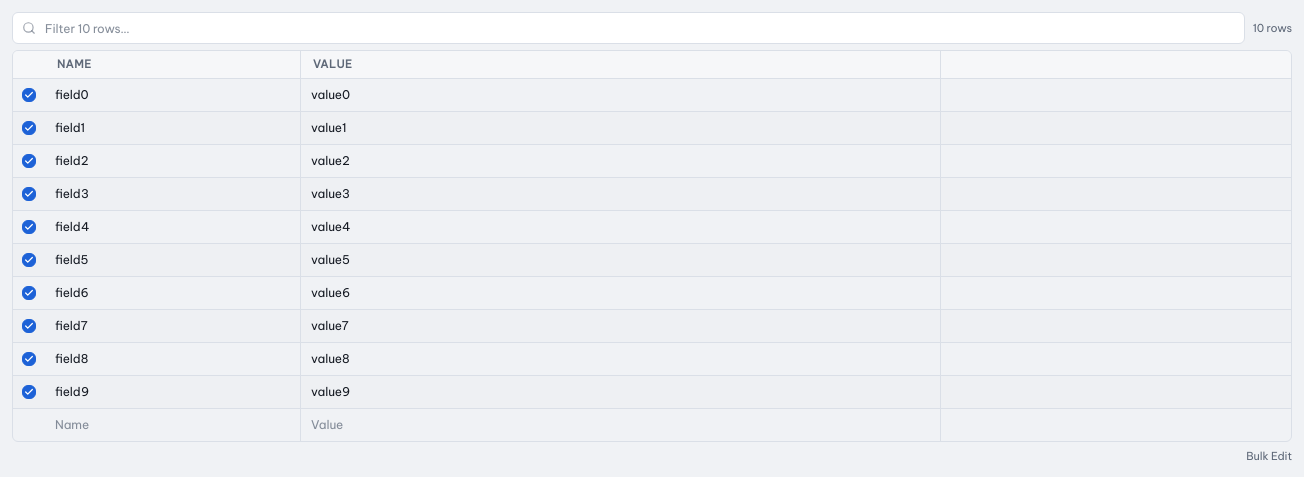
Test: KeyValueEditor — filter for long tables › narrows the rendered rows and reports how many matched
This screenshot has width=1304, height=477.
Type "field7" into the field named "Filter rows". click: [628, 28]
box: [12, 12, 1245, 44]
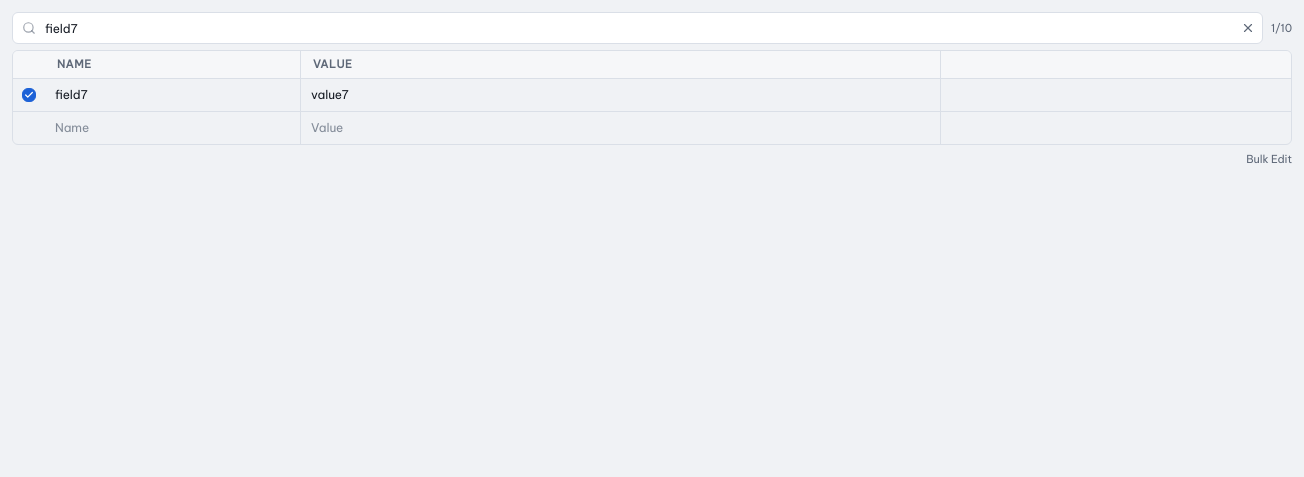
Expected: the text "1/10" is shown, [1271, 20, 1292, 36]
